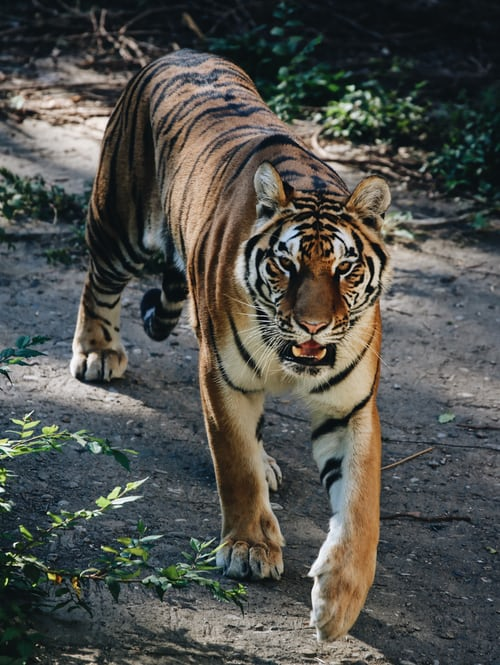tiger: (235, 178, 409, 385)
